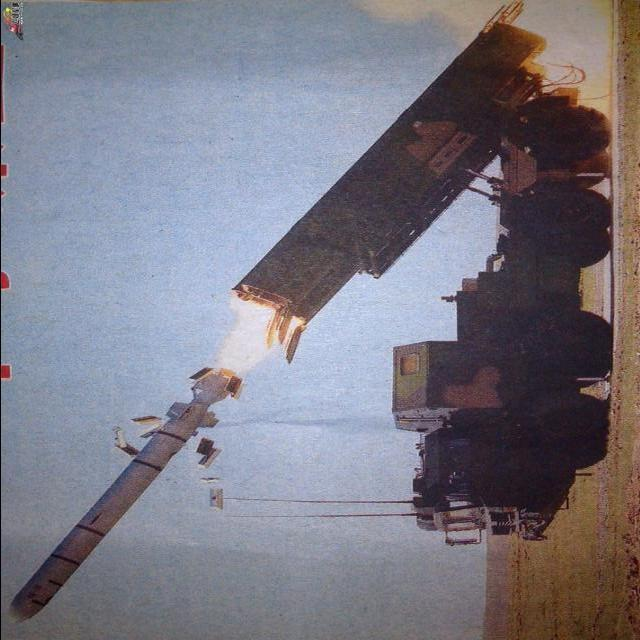missile: (0, 360, 244, 640)
